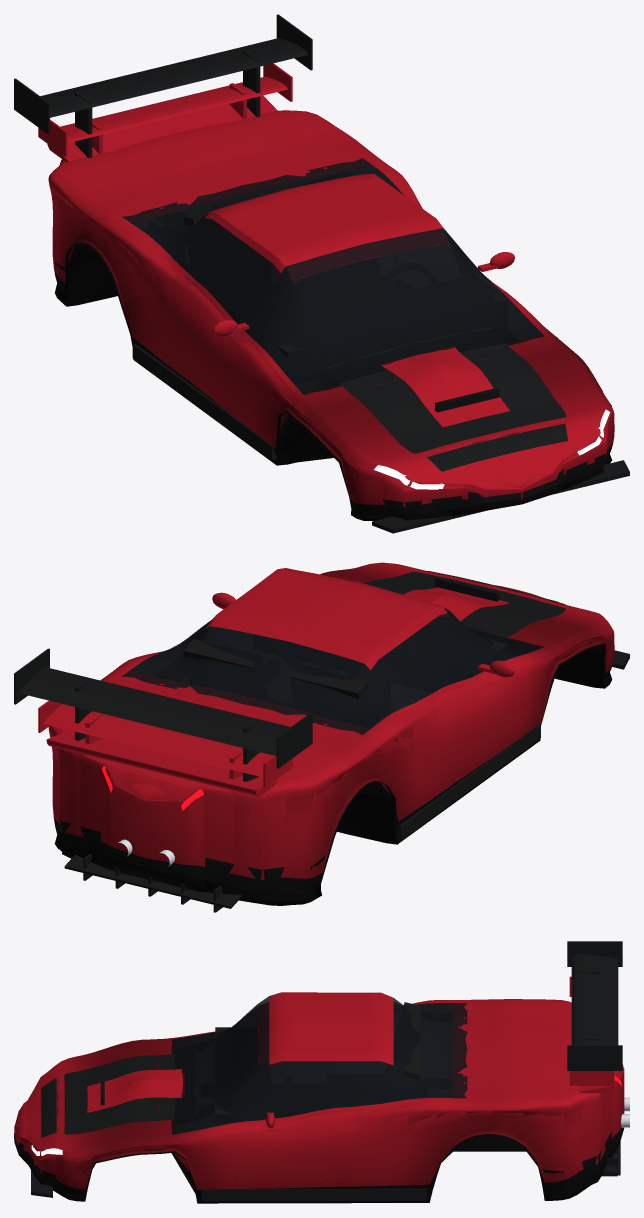
File: sr_honda_nsx_na1.glb
The picture shows the model from 3 angles, top to bottom: view 1: azimuth 30°, elevation 25°; view 2: azimuth 150°, elevation 25°; view 3: azimuth 270°, elevation 25°; orthographic projection. The views are drawn at different scales.
Parts seen in each view (by area): view 1: body (×2), hood_3, spoiler_3, spoiler_2, hood_1, bumper_1, spoiler_1, mirrors, grille, headlights; view 2: body (×2), spoiler_3, spoiler_2, bumper_1, spoiler_1, hood_3, interior, hood_1, mirrors, hood_1_intake; view 3: body (×2), spoiler_3, hood_3, bumper_1, hood_1, interior, spoiler_2.
Boxes of the visible parts, x1=… form: body (×2): x1=48, y1=110, x2=614, y2=520; hood_3: x1=326, y1=327, x2=567, y2=471; spoiler_3: x1=14, y1=14, x2=312, y2=158; spoiler_2: x1=38, y1=63, x2=292, y2=156; hood_1: x1=381, y1=347, x2=509, y2=427; bumper_1: x1=132, y1=343, x2=629, y2=533; spoiler_1: x1=47, y1=95, x2=277, y2=162; mirrors: x1=212, y1=252, x2=514, y2=336; grille: x1=468, y1=469, x2=563, y2=504; headlights: x1=374, y1=410, x2=609, y2=489; body (×2): x1=48, y1=562, x2=614, y2=905; spoiler_3: x1=14, y1=648, x2=312, y2=781; spoiler_2: x1=38, y1=700, x2=292, y2=787; bumper_1: x1=64, y1=650, x2=629, y2=912; spoiler_1: x1=46, y1=730, x2=277, y2=796; hood_3: x1=364, y1=571, x2=566, y2=638; interior: x1=183, y1=639, x2=507, y2=699; hood_1: x1=404, y1=587, x2=509, y2=621; mirrors: x1=212, y1=592, x2=514, y2=677; hood_1_intake: x1=435, y1=577, x2=499, y2=601; body (×2): x1=14, y1=992, x2=624, y2=1203; spoiler_3: x1=567, y1=941, x2=622, y2=1070; hood_3: x1=41, y1=1049, x2=196, y2=1137; bumper_1: x1=31, y1=1141, x2=620, y2=1200; hood_1: x1=87, y1=1069, x2=183, y2=1112; interior: x1=215, y1=1002, x2=420, y2=1119; spoiler_2: x1=569, y1=976, x2=613, y2=1085.
Bounding box in the file's own units: 2.04 × 1.27 × 4.45.
